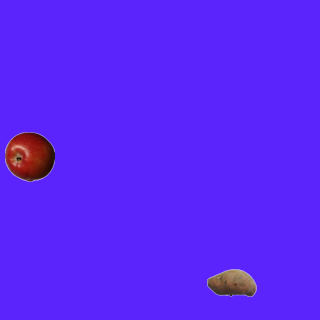Apple Braeburn: (4, 131, 54, 181)
Potato Sweet: (206, 257, 256, 307)
